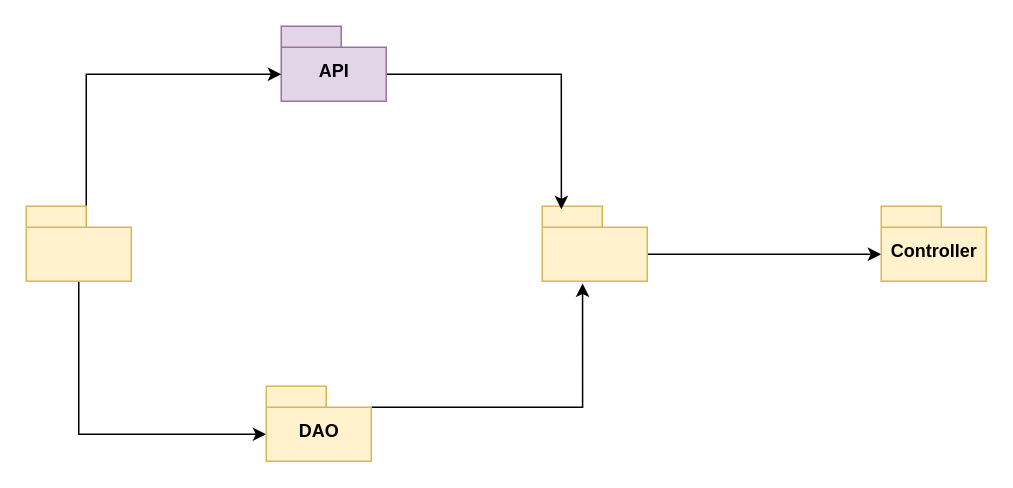
The diagram is 1013 pixels wide and 488 high, and some of its shapes have lost their labels. Each missing label, with the box of its shape:
Métier: (25, 205, 131, 281)
Service: (541, 205, 647, 281)
